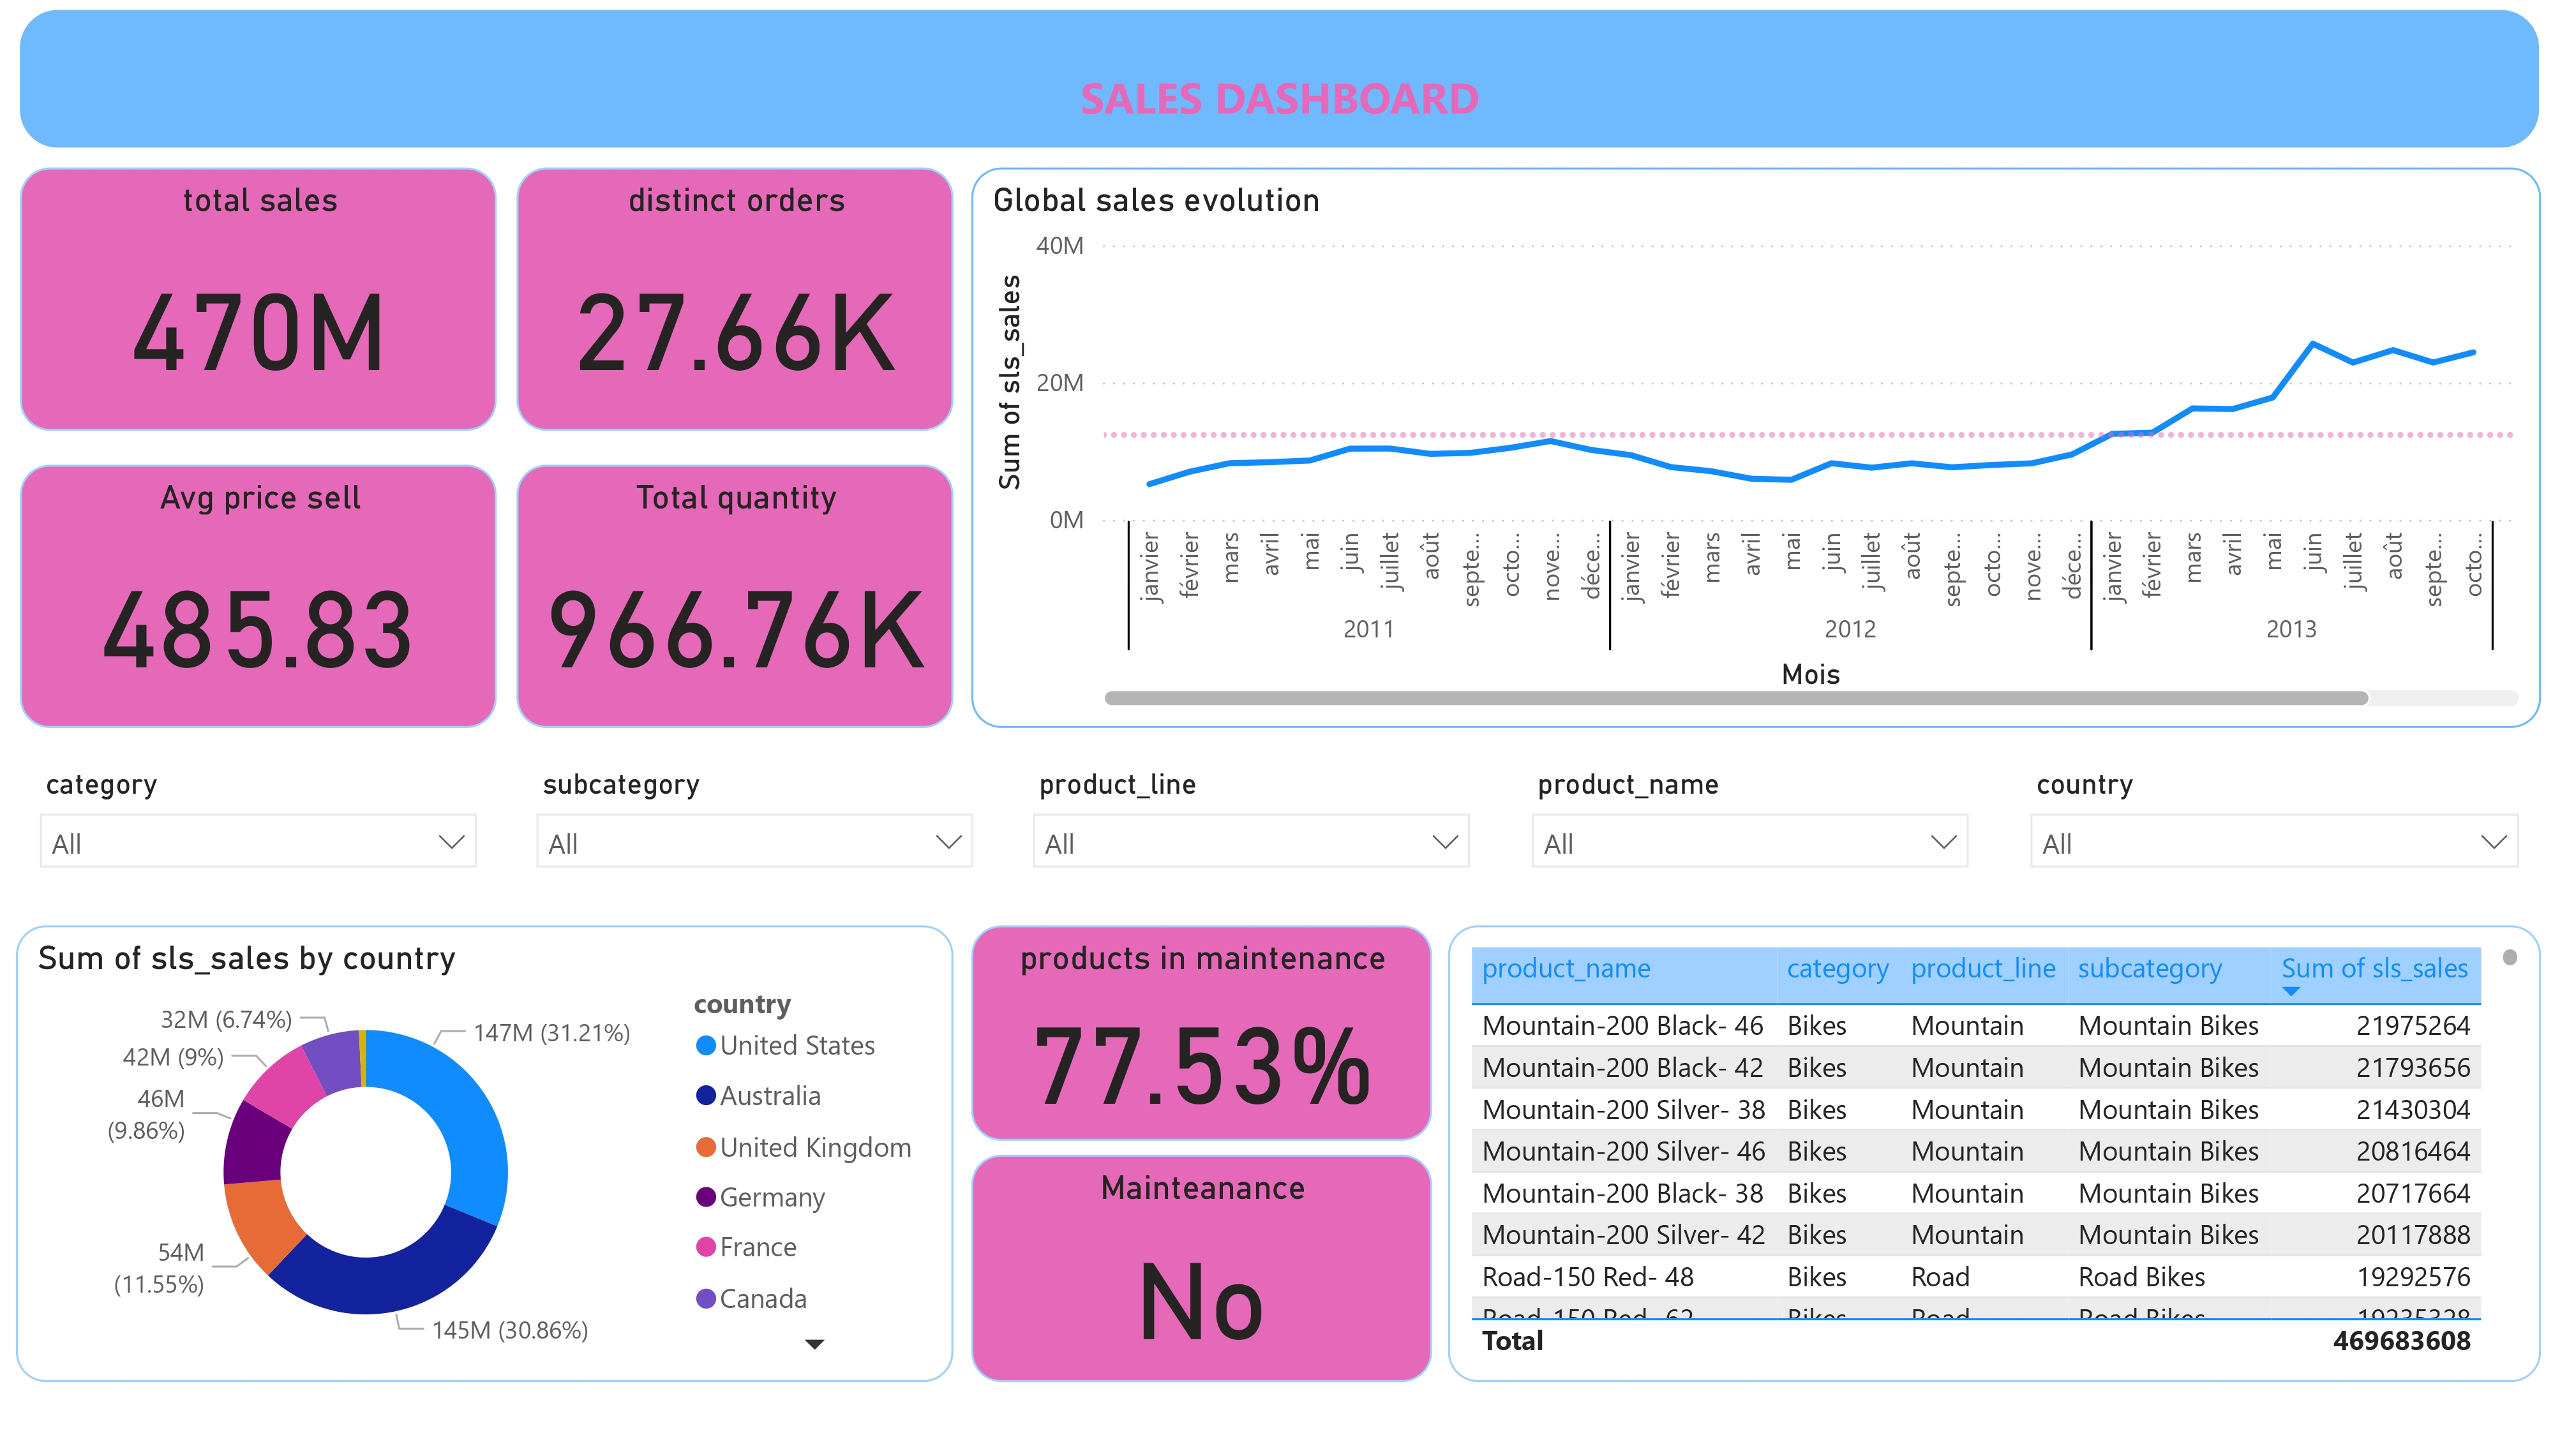

The dashboard page shown, as its layout file describes it:
{"tool":"powerbi","page":{"name":"Page 1","canvas":[1280,720],"ordinal":0},"visuals":[{"type":"textbox","box":[9.7,0,1263.5,69.1],"z":0},{"type":"lineChart","title":"Global sales evolution","fields":{"Y":["Sum(gold fact_sales.sls_sales)"],"Category":["gold fact_sales.sls_due_dt.Variation.Hiérarchie de dates.Année","gold fact_sales.sls_due_dt.Variation.Hiérarchie de dates.Mois"]},"box":[487.3,78.8,786.9,281.1],"z":1000},{"type":"slicer","fields":{"Values":["gold dim_products.category"]},"box":[9.7,375.4,239.3,71],"z":2000},{"type":"slicer","fields":{"Values":["gold dim_products.product_name"]},"box":[758.1,375.3,239.4,71.2],"z":3000},{"type":"slicer","fields":{"Values":["gold dim_products.product_line"]},"box":[507.9,375.3,239.4,71.2],"z":4000},{"type":"card","title":"Mainteanance","fields":{"Values":["Min(gold dim_products.maintenance)"]},"box":[487.3,573.9,230.5,113.8],"z":5000},{"type":"slicer","fields":{"Values":["gold dim_customers.country"]},"box":[1008.3,375.3,265.3,71.2],"z":6000},{"type":"card","title":"total sales","fields":{"Values":["Sum(gold fact_sales.sls_sales)"]},"box":[9.7,78.8,239.3,132.3],"z":7000},{"type":"slicer","fields":{"Values":["gold dim_products.subcategory"]},"box":[258.8,375.3,239.4,71.2],"z":8000},{"type":"card","title":"Total quantity","fields":{"Values":["Sum(gold fact_sales.sls_quantity)"]},"box":[258.7,227.6,218.8,132.3],"z":9000},{"type":"card","title":"Avg price sell","fields":{"Values":["gold fact_sales.Prix Moyen"]},"box":[9.7,227.6,239.3,132.3],"z":10000},{"type":"tableEx","fields":{"Values":["gold dim_products.product_name","gold dim_products.category","gold dim_products.product_line","gold dim_products.subcategory","Sum(gold fact_sales.sls_sales)"]},"box":[725.6,459.1,547.6,228.6],"z":11000},{"type":"card","title":"products in maintenance","fields":{"Values":["gold dim_products.% Produits en Maintenance"]},"box":[487.3,459.1,230.5,108],"z":12000},{"type":"donutChart","fields":{"Y":["Sum(gold fact_sales.sls_sales)"],"Category":["gold dim_customers.country"]},"box":[7.8,459.1,469.8,228.6],"z":13000},{"type":"card","title":"distinct orders","fields":{"Values":["Count(gold fact_sales.sls_ord_num)"]},"box":[258.7,78.8,218.8,132.3],"z":14000}]}

Visuals, with their boxes in screenshot pixels (x1, y1, x2, y2), scaled from the page's 1280x720 canvas onto the 2553x1456 screenshot:
textbox: <region>19, 0, 2540, 140</region>
"Global sales evolution" lineChart: <region>972, 160, 2542, 728</region>
slicer - gold dim_products.category: <region>19, 759, 497, 903</region>
slicer - gold dim_products.product_name: <region>1512, 759, 1989, 903</region>
slicer - gold dim_products.product_line: <region>1013, 759, 1490, 903</region>
"Mainteanance" card: <region>972, 1161, 1432, 1391</region>
slicer - gold dim_customers.country: <region>2011, 759, 2540, 903</region>
"total sales" card: <region>19, 160, 497, 427</region>
slicer - gold dim_products.subcategory: <region>516, 759, 994, 903</region>
"Total quantity" card: <region>516, 460, 952, 728</region>
"Avg price sell" card: <region>19, 460, 497, 728</region>
tableEx - gold dim_products.product_name x gold dim_products.category: <region>1448, 928, 2540, 1391</region>
"products in maintenance" card: <region>972, 928, 1432, 1147</region>
donutChart - Sum(gold fact_sales.sls_sales) x gold dim_customers.country: <region>15, 928, 952, 1391</region>
"distinct orders" card: <region>516, 160, 952, 427</region>
